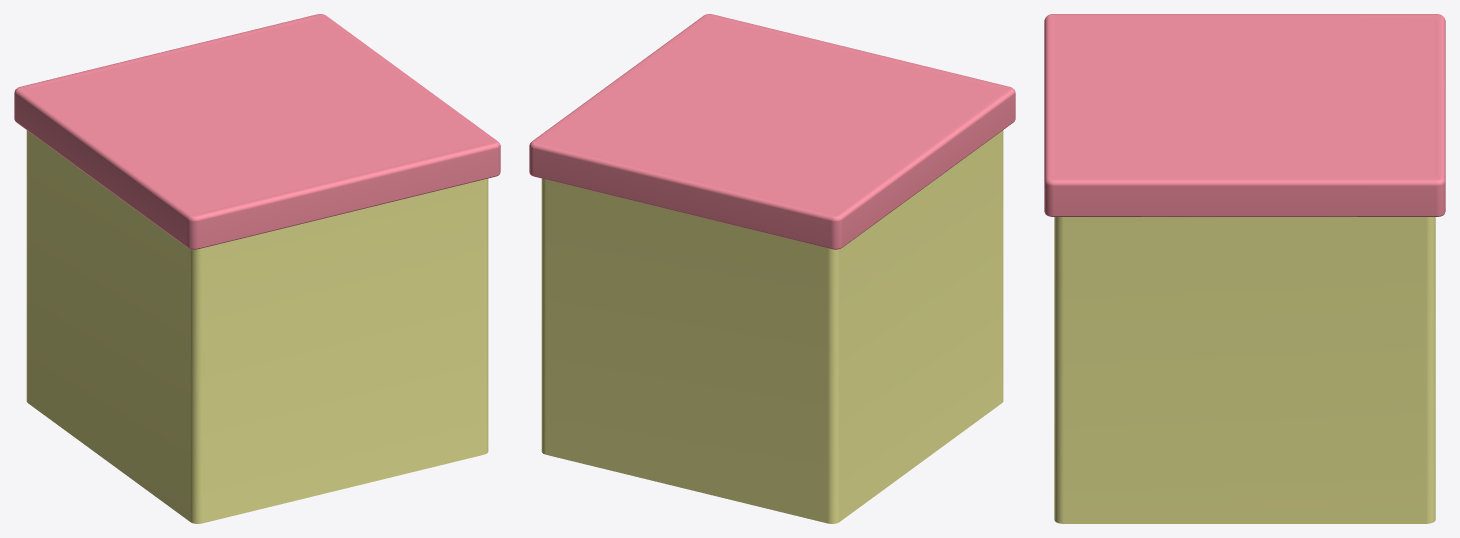
The model's file is BaseCounter.fbx.
3 views of the same model, side by side, from view 1: azimuth 30°, elevation 25°; view 2: azimuth 150°, elevation 25°; view 3: azimuth 270°, elevation 25° (orthographic). The views are drawn at different scales.
Visible parts, largest first — view 1: BaseCounter; view 2: BaseCounter; view 3: BaseCounter.
Part boxes in pixels (x1=…): BaseCounter: x1=14, y1=14, x2=500, y2=523; BaseCounter: x1=529, y1=14, x2=1015, y2=523; BaseCounter: x1=1044, y1=14, x2=1445, y2=523.
Bounding box in the file's own units: 1804 × 1717 × 1804.
